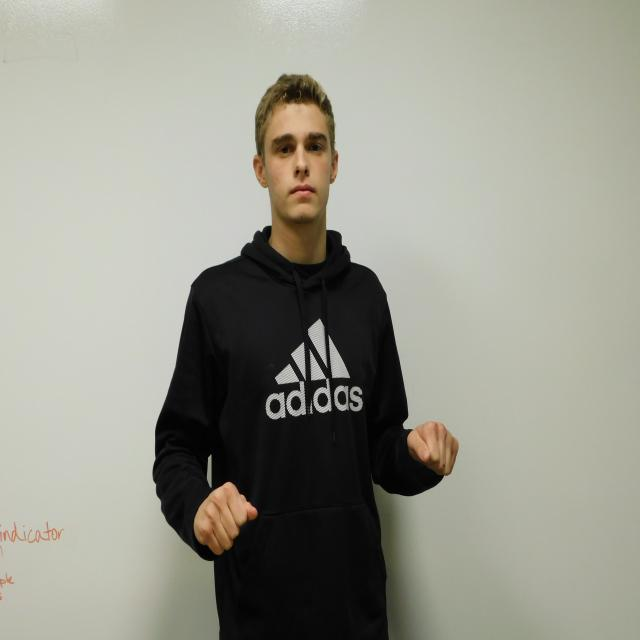can: (194, 420, 459, 556)
